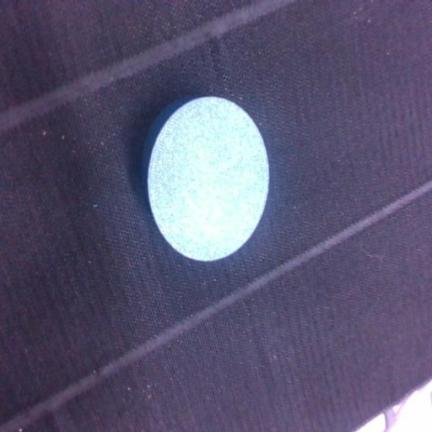cylinder: (147, 96, 268, 261)
